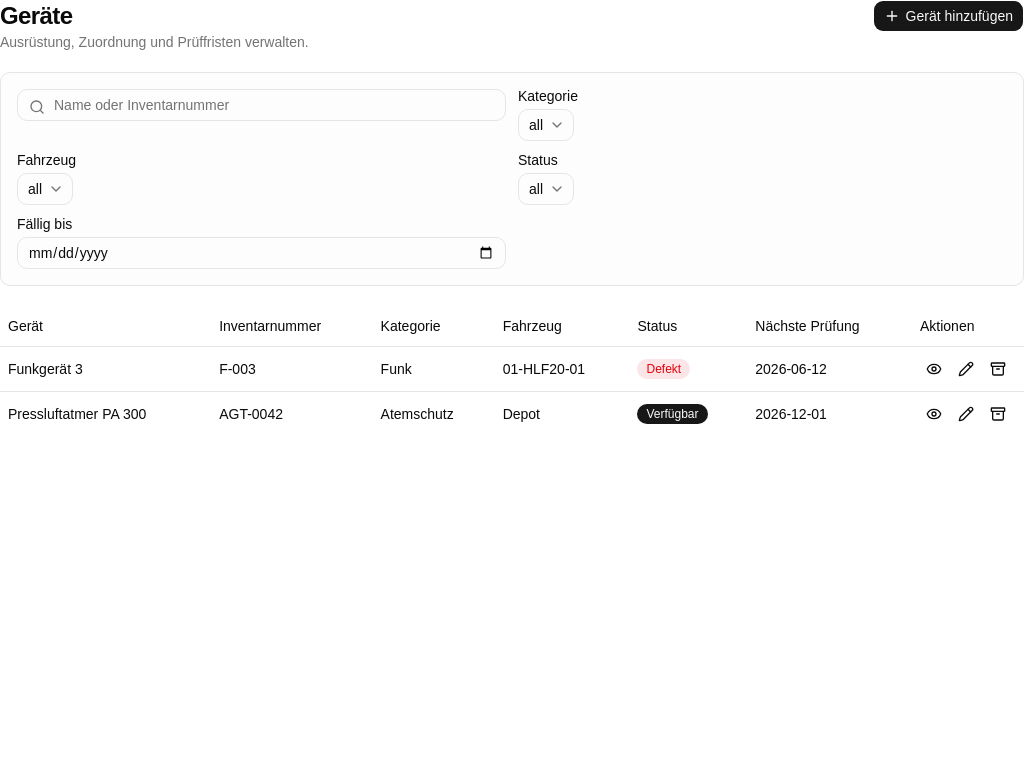
EquipmentPage API integration › exposes an accessible name for the required category selector
The width and height of the screenshot is (1024, 768).
expect the link "Funkgerät 3" is shown: met, box [8,360,83,376]
Click the button "Gerät hinzufügen" at (948, 16), box [873,0,1023,32]
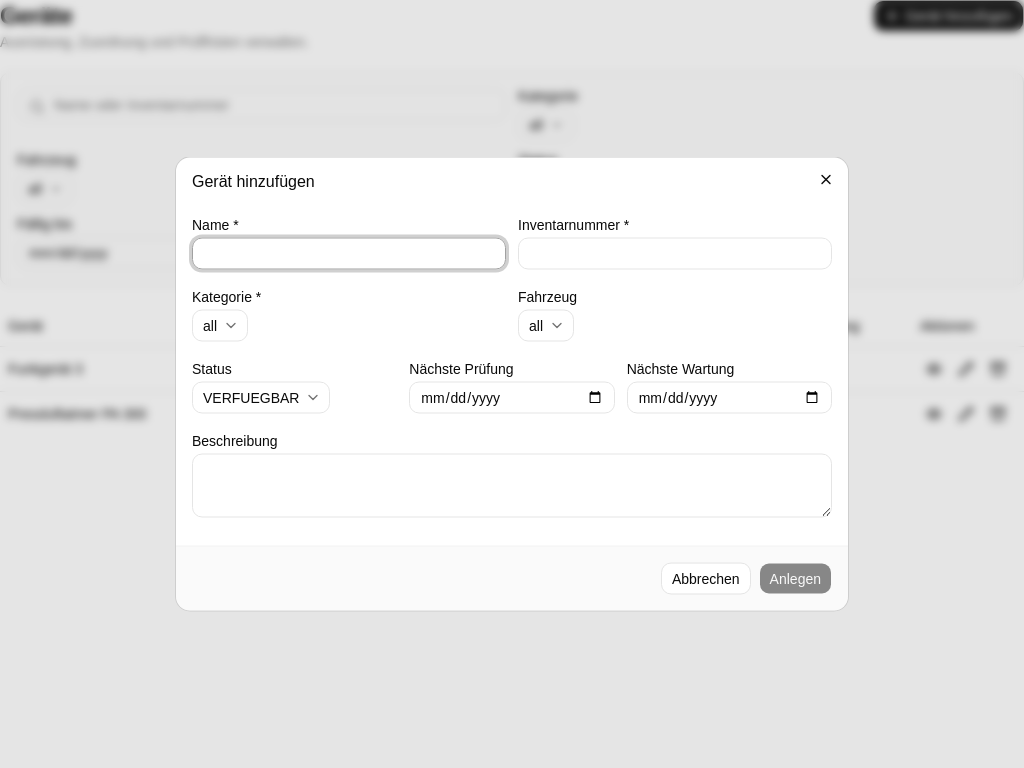
expect the dropdown named "Kategorie *" is shown: met, box [192,310,248,342]
